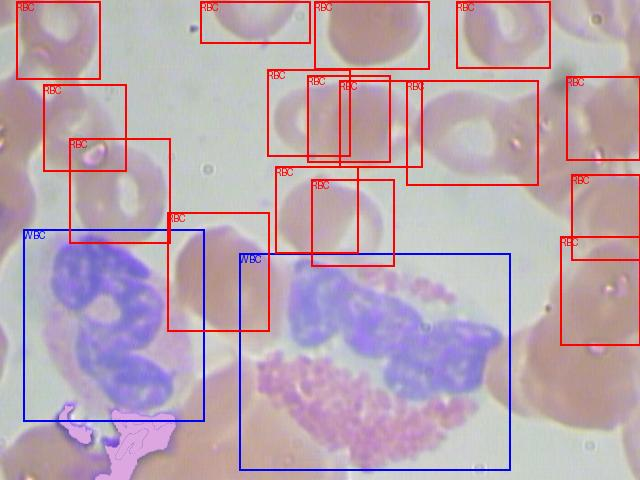RBC: (406, 80, 538, 185), (167, 212, 269, 331), (69, 138, 170, 243), (560, 236, 640, 345), (314, 1, 429, 69), (43, 84, 126, 171), (275, 166, 358, 253), (311, 179, 394, 266), (267, 69, 350, 156), (307, 75, 390, 162), (339, 80, 422, 167), (16, 1, 100, 79), (456, 1, 550, 68), (566, 76, 640, 160), (571, 174, 640, 260), (200, 1, 310, 43)
WBC: (239, 253, 510, 470), (23, 229, 204, 421)
